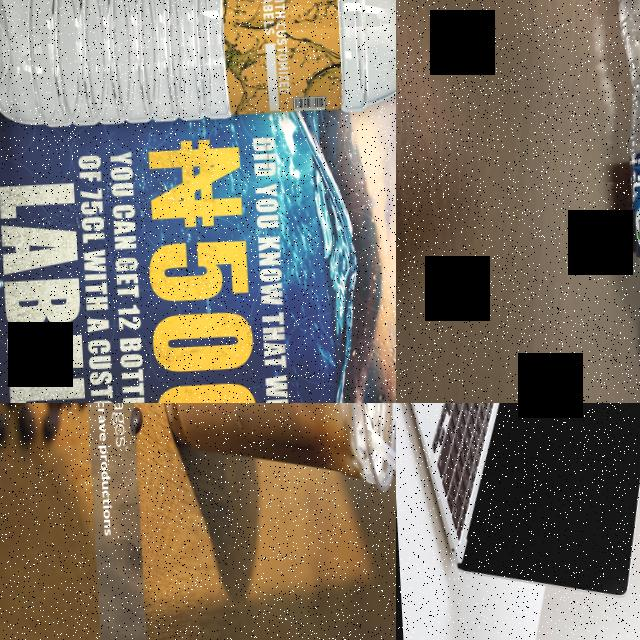bottle: (0, 0, 396, 130), (598, 0, 640, 402)
cup: (152, 403, 396, 503)
